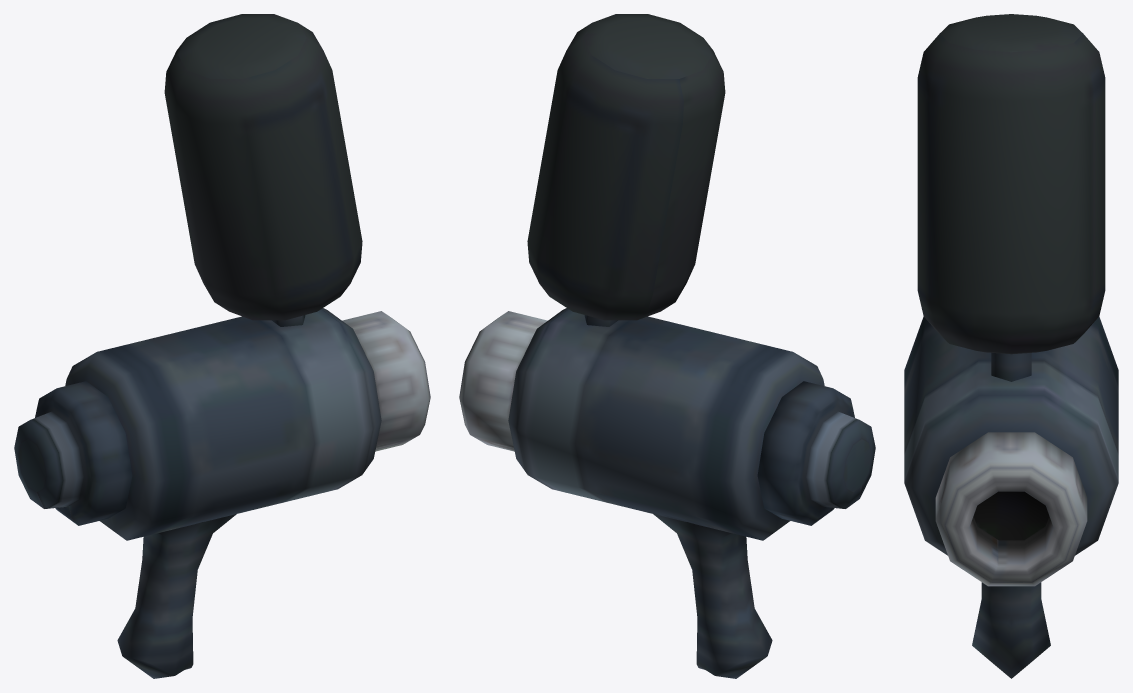
The model's file is paintinator.obj.
3 renders of one model, left to right at view 1: azimuth 30°, elevation 25°; view 2: azimuth 150°, elevation 25°; view 3: azimuth 270°, elevation 25°, orthographic. The views are drawn at different scales.
Parts seen in each view (by area): view 1: group1.005; view 2: group1.005; view 3: group1.005.
Boxes of the visible parts, x1,y1,x2,y2 form: group1.005: (14, 14, 430, 678); group1.005: (459, 14, 875, 678); group1.005: (904, 14, 1118, 678).
Bounding box in the file's own units: 9.01 × 14.39 × 4.05.
1 material, 1 textured.
